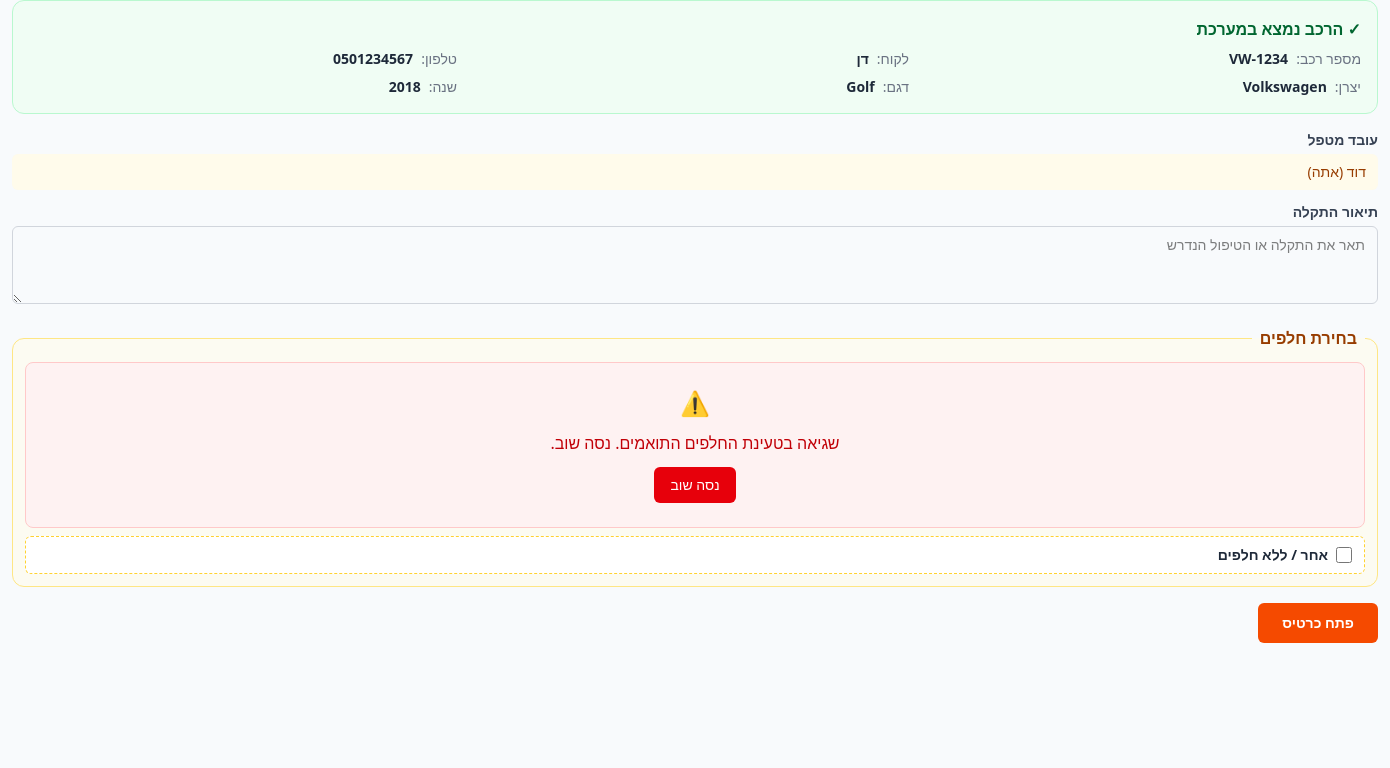
Test: PartsSelection — compatible parts in the ticket flow › shows a Hebrew error and retries the load when it fails
The image size is (1390, 768).
Expected: the text "שגיאה בטעינת החלפים התואמים. נסה שוב." is shown, [550,431,840,455]
Step 1. Click the button "נסה שוב" → (695, 485), box [654,467,736,503]
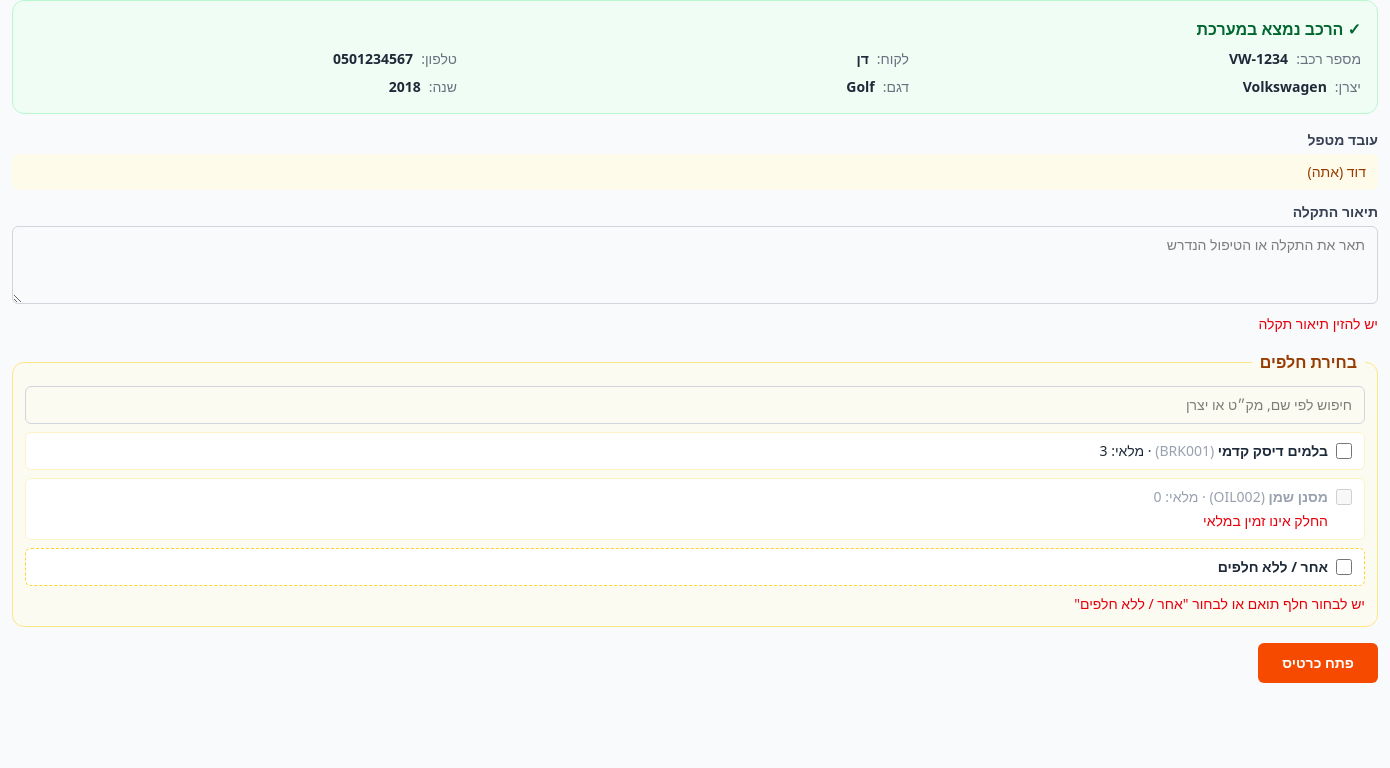
Expected: the checkbox labelled "בלמים דיסק קדמי" is shown, [1336,443,1352,459]
